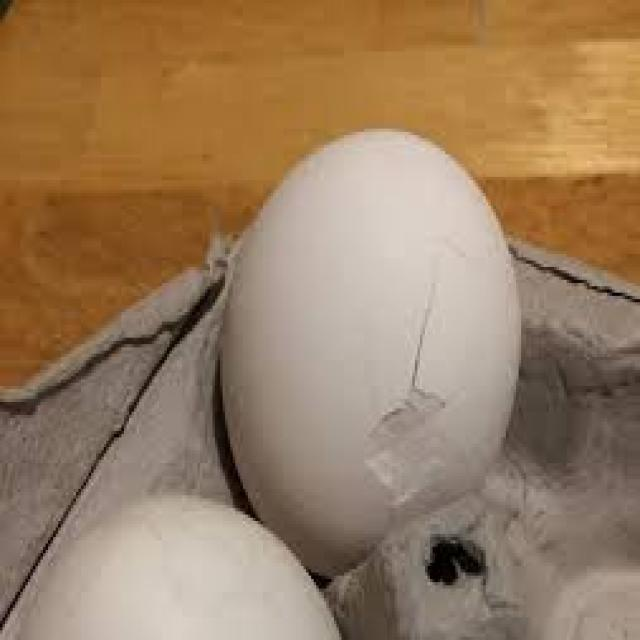biodegradable: (219, 126, 525, 524), (19, 490, 337, 636)
